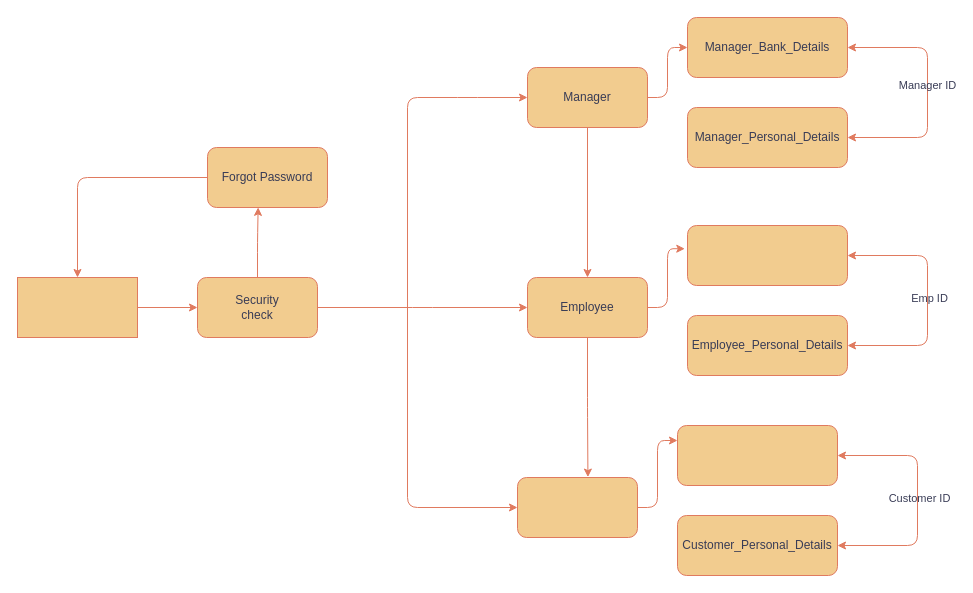
The diagram is 973 pixels wide and 593 high, and some of its shapes have lost their labels. Here are the shapes that lost their labels. From the top down, the box of each, then its label:
(686, 224, 848, 286): Employee_Bank_Details
(16, 276, 138, 338): LOGIN
(676, 424, 838, 486): Customer_Bank_Details
(516, 476, 638, 538): Customer
